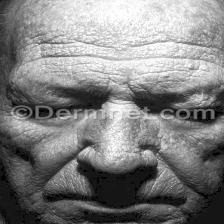Benign Marking or Mole: (56, 0, 210, 37)
